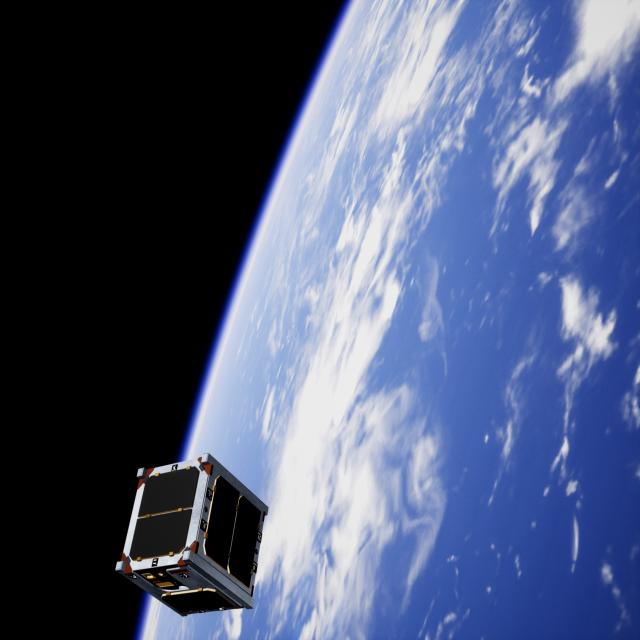satellite: (115, 453, 272, 624)
